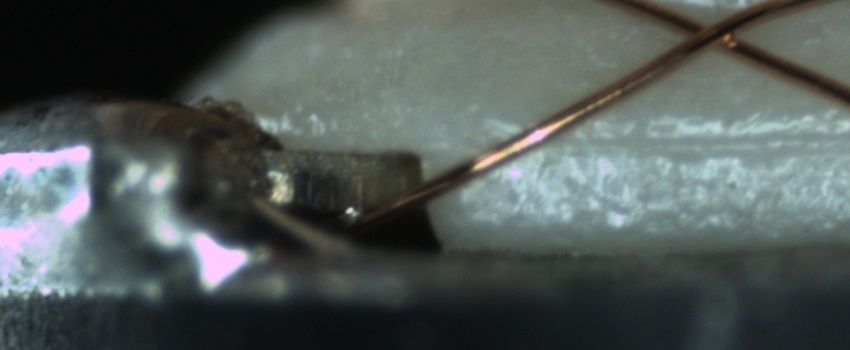CL: (667, 4, 762, 60)
DL: (476, 113, 849, 177)
